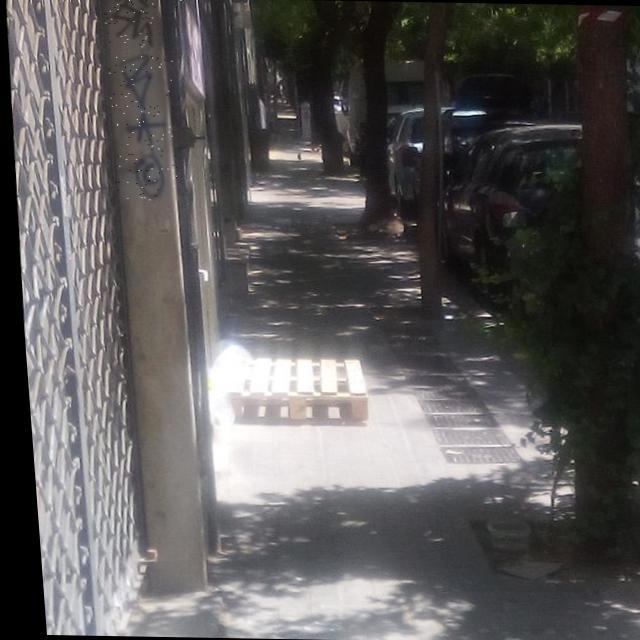-: (104, 54, 180, 200), (100, 0, 157, 47)
